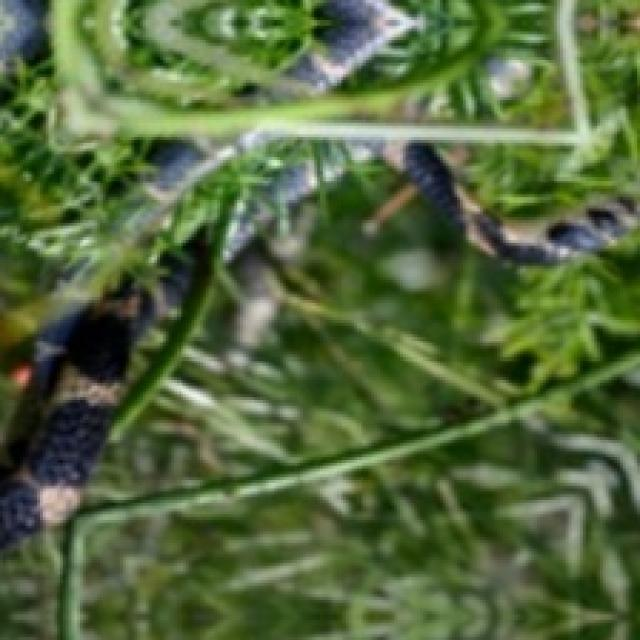king cobra: (0, 0, 637, 637), (471, 200, 609, 266)
